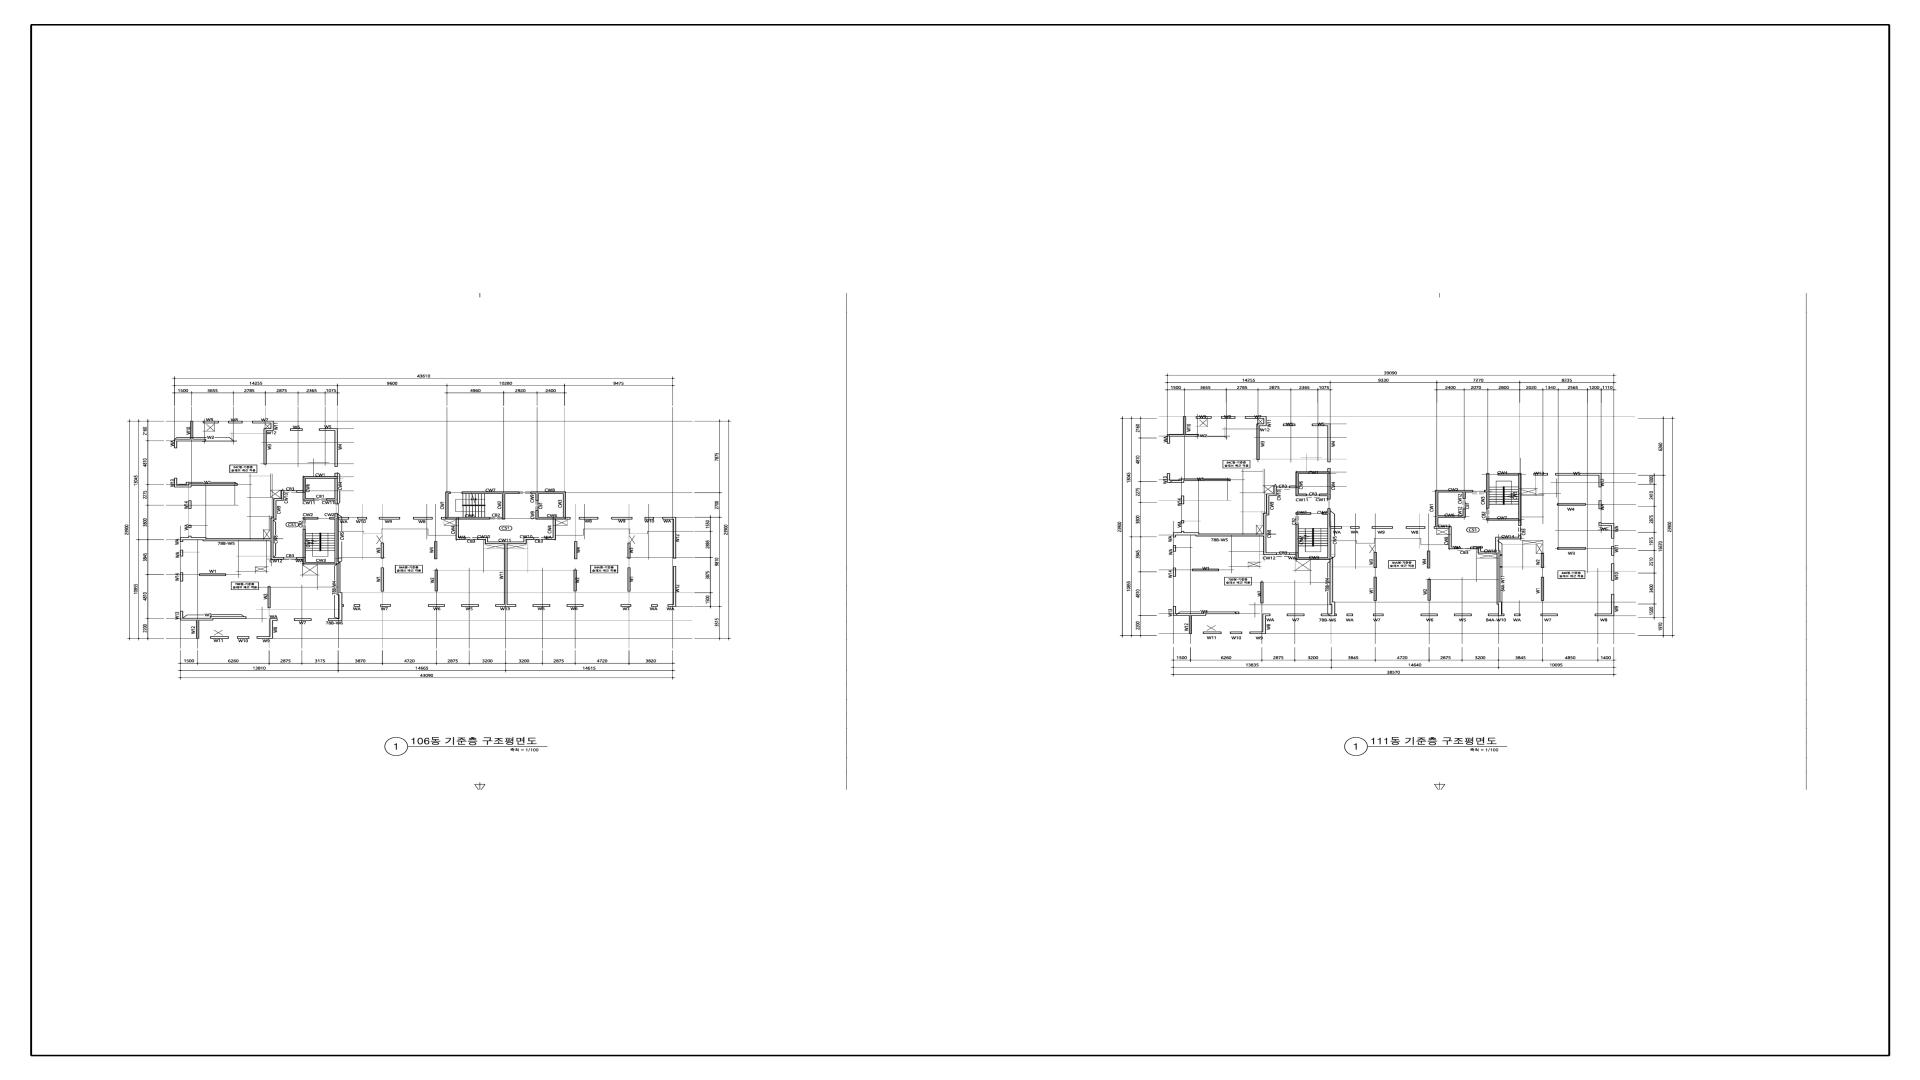wall: (297, 529, 335, 564), (1295, 529, 1333, 560), (181, 611, 247, 621), (174, 477, 237, 488), (1263, 513, 1276, 555), (270, 518, 284, 559), (1470, 537, 1501, 554), (1594, 593, 1614, 616), (1250, 613, 1270, 634), (257, 618, 277, 638), (328, 595, 343, 621), (667, 566, 676, 607), (477, 538, 534, 545), (535, 510, 571, 520), (1288, 525, 1299, 555), (1172, 607, 1207, 616), (1328, 508, 1342, 529), (1329, 560, 1336, 605), (174, 439, 206, 448), (1167, 434, 1199, 443), (1497, 554, 1502, 605), (1439, 509, 1466, 518), (1598, 522, 1614, 538), (1257, 423, 1263, 460), (252, 421, 274, 431), (303, 479, 314, 501), (335, 520, 340, 564), (504, 545, 508, 604), (546, 520, 556, 539), (1448, 529, 1458, 549), (1245, 417, 1267, 426), (336, 564, 343, 595), (1518, 476, 1522, 526), (456, 520, 465, 539), (181, 535, 207, 542), (1199, 534, 1263, 537), (207, 538, 270, 541), (1174, 531, 1199, 538), (1167, 473, 1184, 483), (462, 492, 520, 495), (1485, 473, 1489, 509), (1435, 492, 1439, 526), (446, 492, 451, 517), (440, 517, 491, 520), (330, 513, 349, 520), (273, 491, 285, 501), (1555, 473, 1602, 476), (1266, 485, 1278, 496), (1184, 479, 1230, 481), (674, 520, 676, 559), (1328, 426, 1331, 463), (335, 431, 338, 467), (530, 492, 566, 495), (1295, 473, 1299, 496), (1499, 535, 1522, 539), (264, 431, 266, 464), (1207, 612, 1240, 615), (1486, 518, 1519, 521), (303, 476, 335, 479), (1328, 468, 1331, 500), (1296, 471, 1328, 473), (335, 473, 338, 504), (1557, 547, 1586, 550), (190, 421, 194, 439), (199, 574, 227, 576), (1192, 568, 1218, 571), (273, 501, 277, 518), (434, 542, 438, 559), (1266, 496, 1270, 513), (1427, 551, 1431, 568), (381, 567, 384, 592), (502, 495, 505, 520), (628, 567, 630, 592), (1374, 576, 1377, 601), (1542, 576, 1544, 601), (1498, 473, 1522, 476), (378, 517, 401, 520), (563, 495, 566, 517), (1261, 582, 1263, 604), (574, 570, 576, 591), (268, 587, 270, 608), (435, 570, 438, 591), (496, 604, 517, 607), (612, 517, 633, 520), (1371, 526, 1393, 529), (1428, 579, 1431, 600), (413, 517, 433, 520), (579, 517, 599, 520), (1406, 526, 1425, 529), (1435, 491, 1473, 492), (319, 429, 338, 431), (1312, 423, 1331, 426), (1433, 526, 1452, 529), (1203, 632, 1221, 634), (1189, 616, 1192, 634), (1598, 476, 1602, 488), (575, 542, 578, 559), (533, 604, 550, 607), (567, 604, 584, 607), (196, 621, 199, 638), (294, 618, 311, 621), (462, 604, 479, 607), (1183, 417, 1185, 434), (1611, 563, 1614, 580), (1540, 613, 1557, 616), (1487, 613, 1505, 616), (1455, 613, 1472, 616), (1420, 613, 1437, 616), (1287, 613, 1304, 616), (203, 421, 219, 423), (381, 543, 384, 559), (429, 604, 444, 607), (628, 543, 630, 559), (1196, 417, 1212, 419), (1321, 613, 1337, 616), (1374, 553, 1377, 568), (1542, 553, 1544, 568), (228, 421, 243, 423), (303, 517, 318, 520), (662, 517, 676, 520), (1557, 504, 1586, 505), (1221, 417, 1236, 419), (1534, 473, 1548, 476), (1296, 512, 1311, 514), (1498, 604, 1502, 613), (290, 429, 303, 431), (1283, 423, 1295, 426), (1598, 501, 1602, 509), (1230, 632, 1242, 634), (1172, 568, 1176, 576), (1332, 605, 1336, 613), (380, 604, 390, 607), (621, 604, 632, 607), (1373, 613, 1383, 616), (210, 637, 229, 638), (1462, 492, 1466, 498), (1172, 545, 1176, 551), (189, 500, 191, 509), (181, 572, 183, 582), (326, 498, 335, 501), (357, 517, 367, 520), (645, 517, 654, 520), (1350, 526, 1360, 529), (1611, 546, 1614, 555), (1319, 493, 1328, 496), (1182, 496, 1184, 504), (1299, 493, 1307, 496), (181, 550, 183, 556), (297, 491, 303, 493), (353, 604, 360, 607), (535, 495, 538, 501), (651, 604, 658, 607), (1514, 613, 1520, 616), (1346, 613, 1353, 616), (237, 637, 249, 638), (1290, 485, 1295, 488), (189, 525, 191, 527), (1182, 521, 1184, 524), (1323, 513, 1328, 514), (343, 604, 344, 607)
